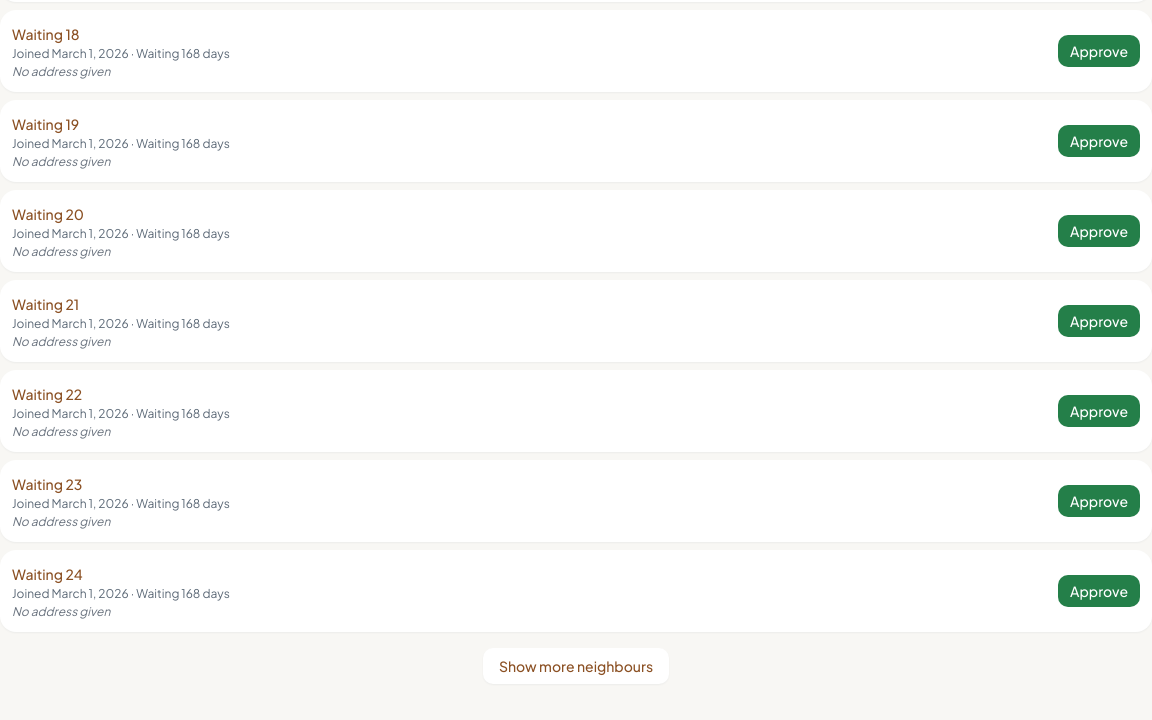
Test: Approvals queue › offers more, and appends the next page rather than replacing it
The image size is (1152, 720).
(page scrolled)
Click the button "Show more neighbours".
click(576, 666)  # box 483,648 -> 669,684
(page scrolled)
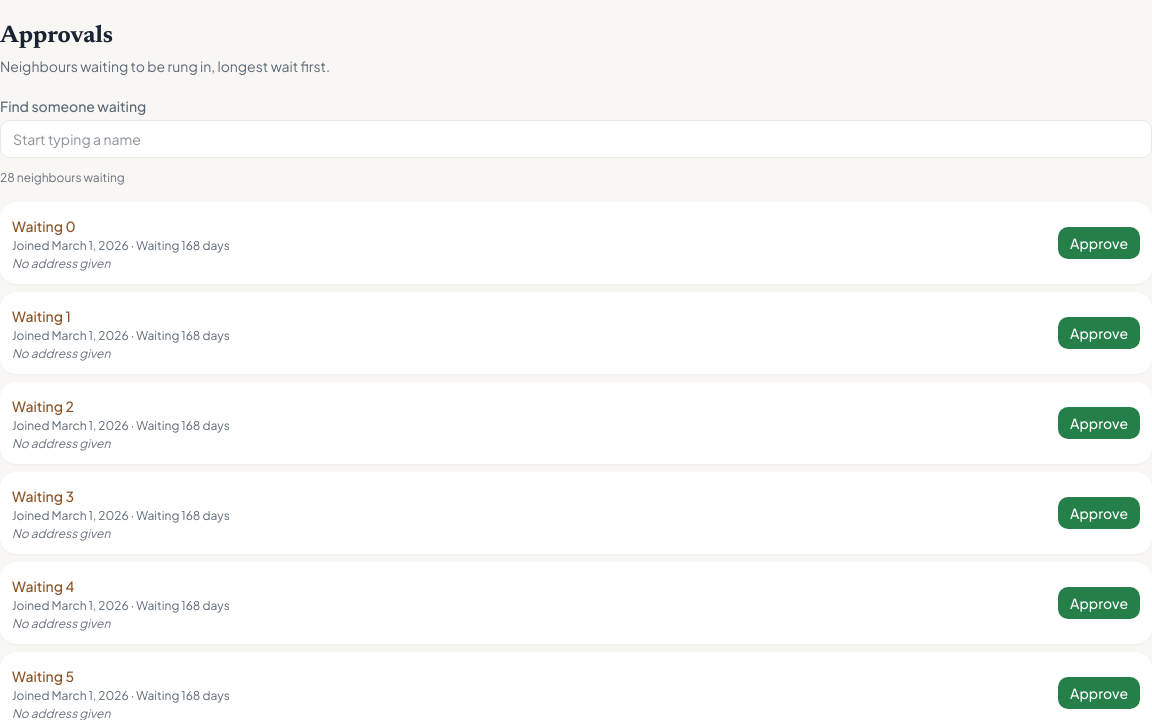
Expected: the link "Waiting 0" is shown, 12,217 -> 76,235
Expected: the number of list items is 28
